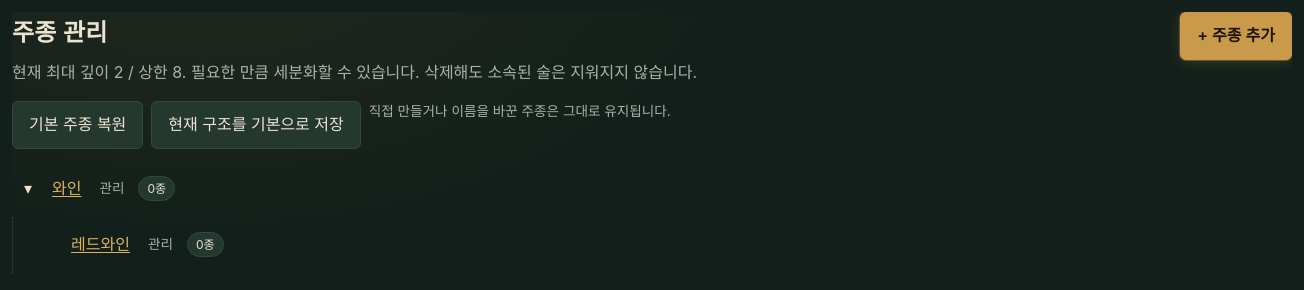
Test: CategoryManager › 접으면 하위 항목이 화면에서 사라지고 다시 펼치면 돌아온다
Click the button named "와인 하위 목록 접기": {"x": 28, "y": 189} [16, 173, 40, 205]
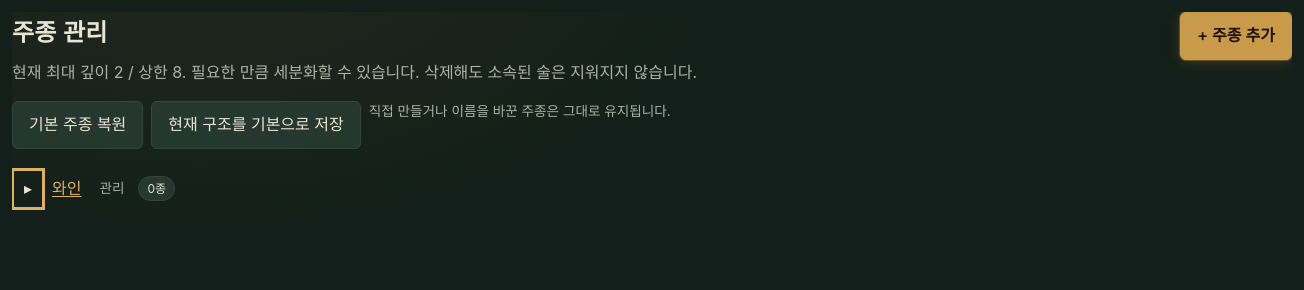
Expected: the button "레드와인" is gone
Click the button named "와인 하위 목록 펼치기": {"x": 28, "y": 189} [16, 173, 40, 205]
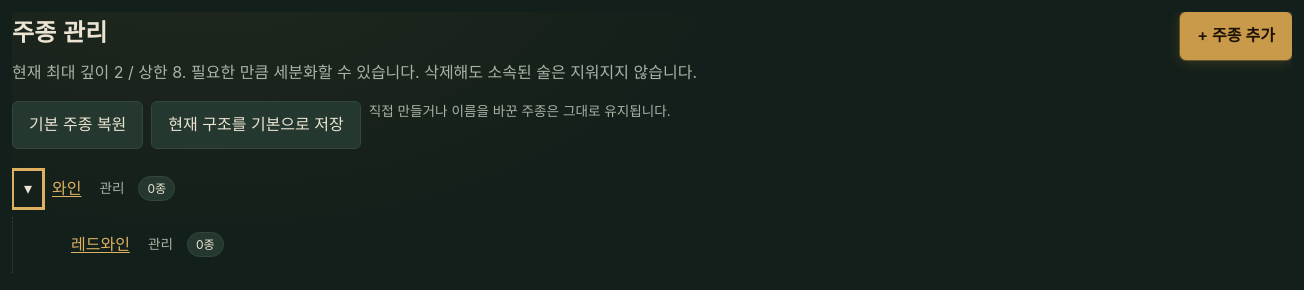
Expected: the button "레드와인" is shown, [67, 223, 134, 267]
